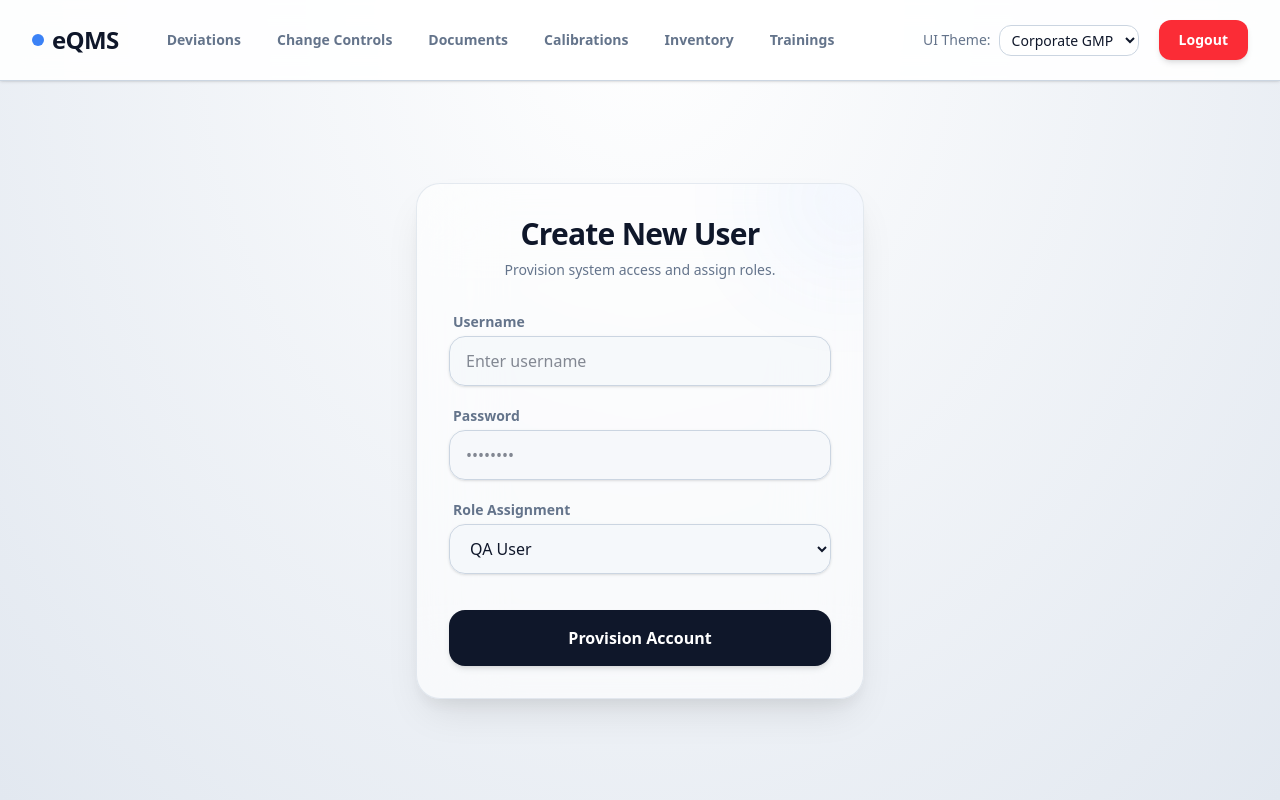
Test: User Registration Page › Unauthenticated State (Security Check) › should block registration if the admin token is missing
This screenshot has width=1280, height=800.
Attempt to fill out the form
Type "rogue_hacker" into the field with placeholder "Enter username". click: (640, 361)
box: [449,336,831,386]
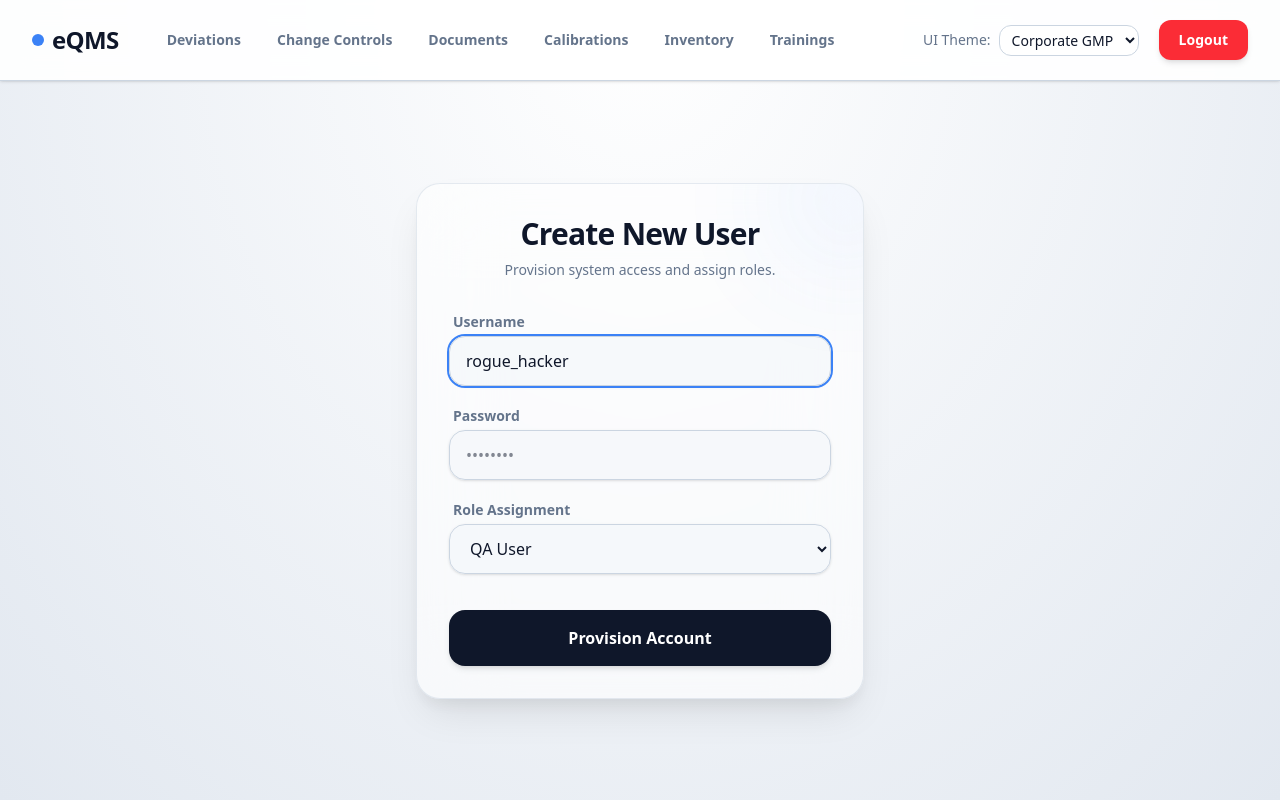
Type "hacked123" into the password field with placeholder "••••••••". click: (640, 455)
box: [449,430,831,480]
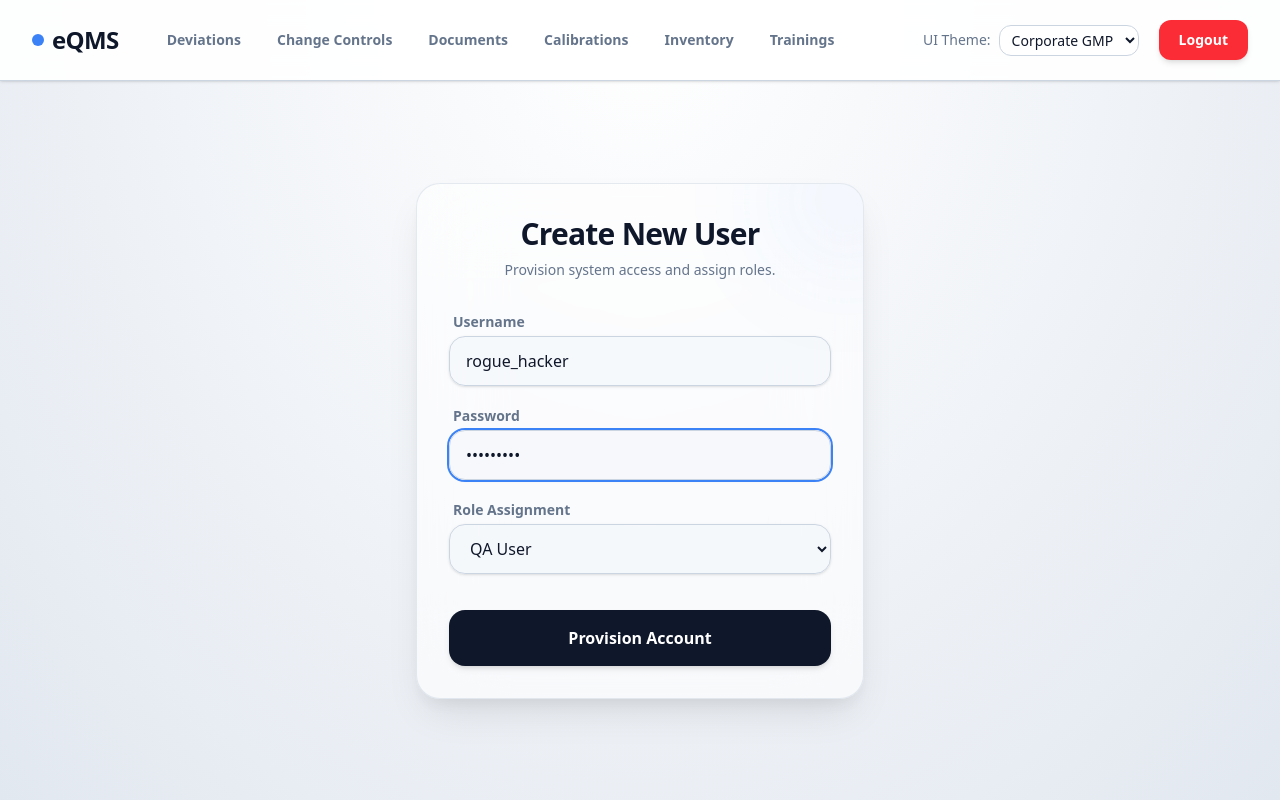
Click submit
Click the button "Provision Account". click: (640, 638)
box: [449,610,831,666]
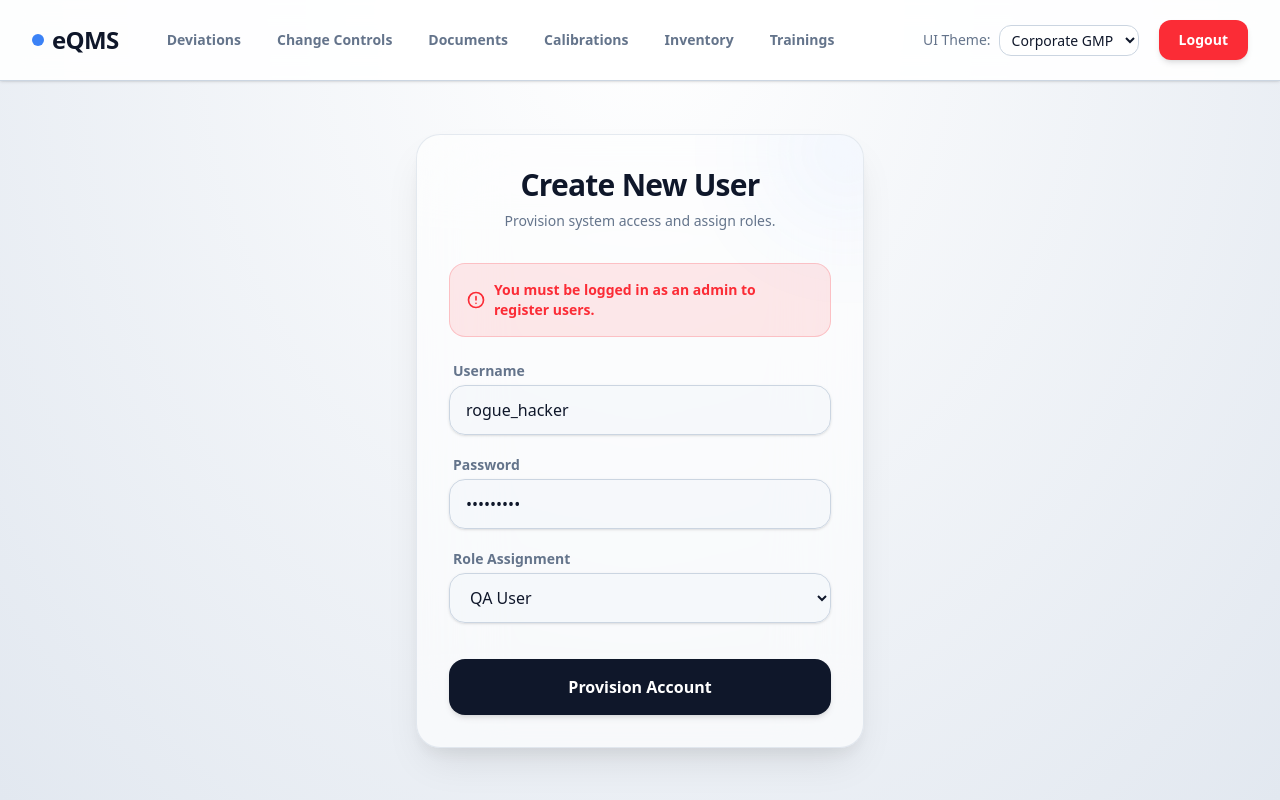
Now the text "You must be logged in as an admin to register users." is shown, box [449,263,831,337]
